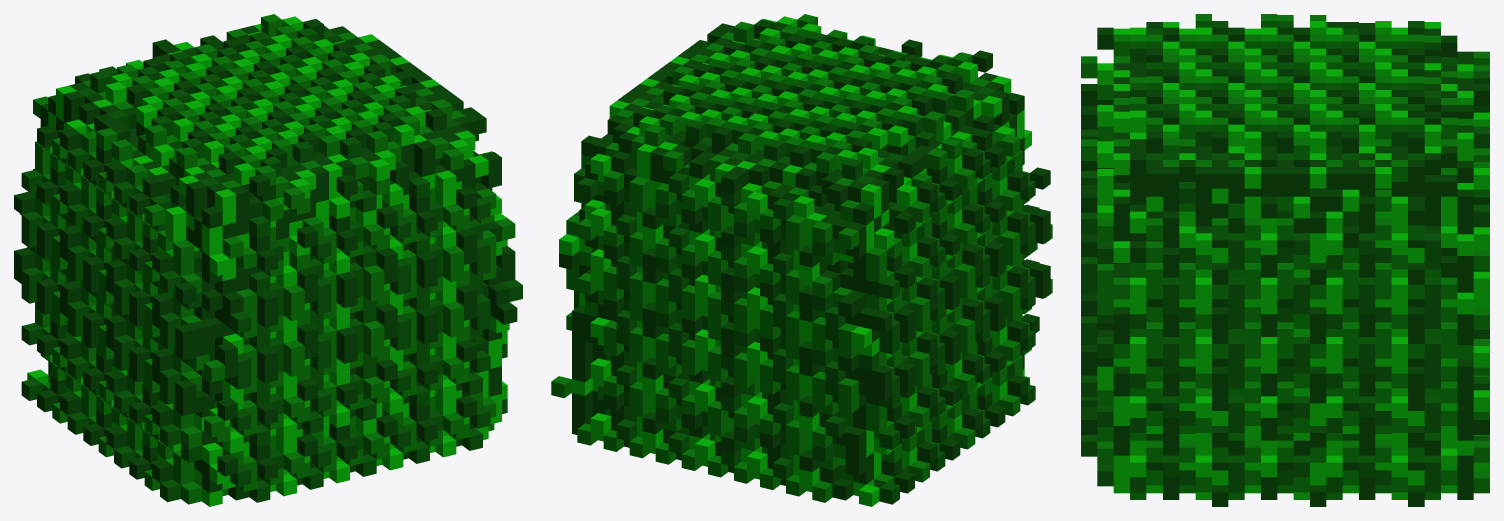
File: bush1.glb
3 renders of one model, left to right at view 1: azimuth 30°, elevation 25°; view 2: azimuth 150°, elevation 25°; view 3: azimuth 270°, elevation 25°, orthographic. The views are drawn at different scales.
Visible parts, largest first — view 1: Node1; view 2: Node1; view 3: Node1.
Part boxes in pixels (x1=…): Node1: x1=14, y1=14, x2=522, y2=506; Node1: x1=551, y1=14, x2=1052, y2=506; Node1: x1=1081, y1=14, x2=1489, y2=506.
Size of the model in its own units: 2.5 by 2.3 by 2.5.
Materials: 1 (1 with a texture image).
